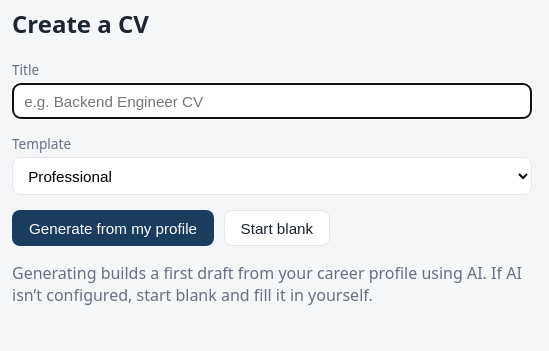
Test case: <CreateCV /> › surfaces a 503 when AI is not configured
The image size is (549, 351).
Step 1. Type "Backend CV" into the field labelled "Title" → (272, 101), box x1=12 y1=83 x2=532 y2=119
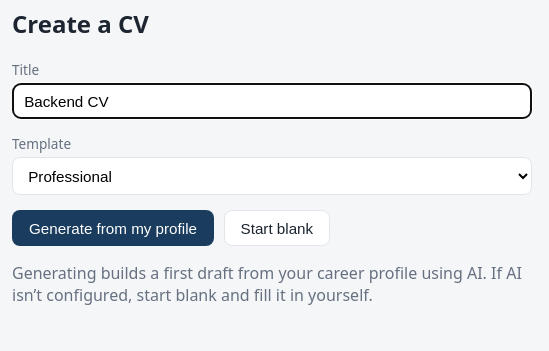
Step 2. Click the button "Generate from my profile" → (113, 228), box x1=12 y1=210 x2=214 y2=246
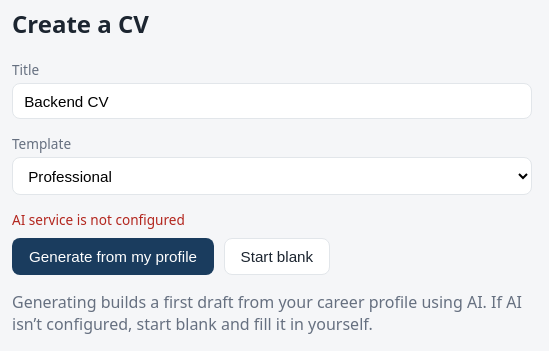
Now the text "AI service is not configured" is shown, box x1=12 y1=210 x2=185 y2=229
